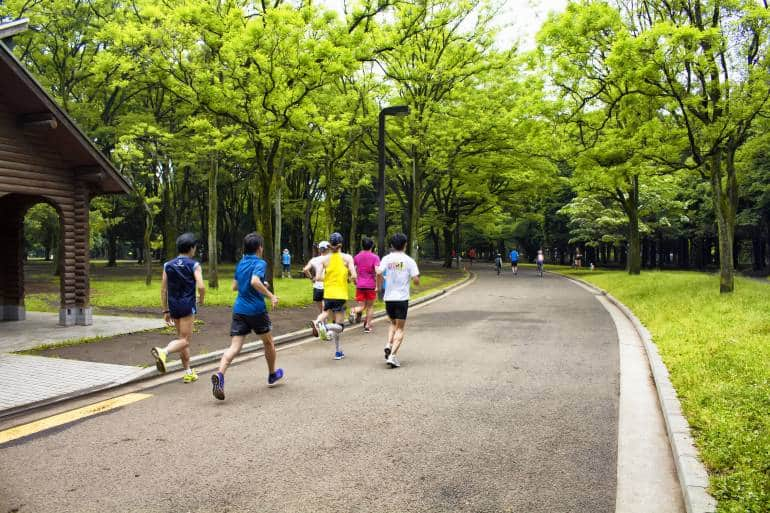person: (209, 231, 286, 403), (150, 231, 206, 385), (376, 231, 419, 370)
